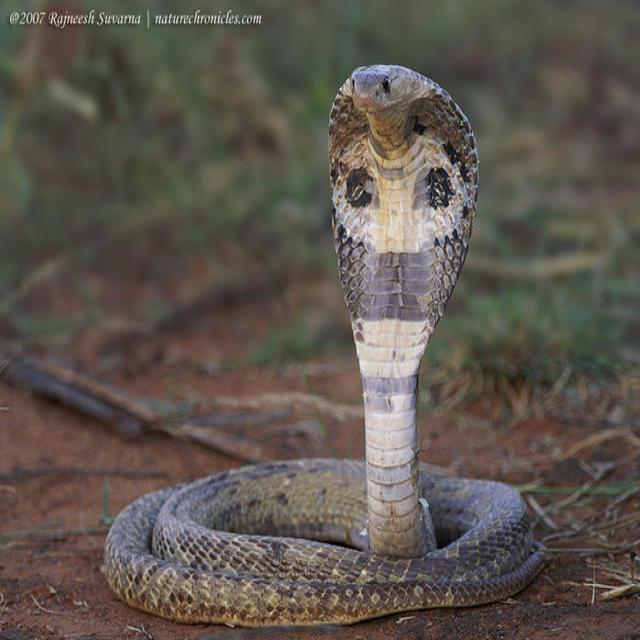Snake: (96, 53, 549, 627)
